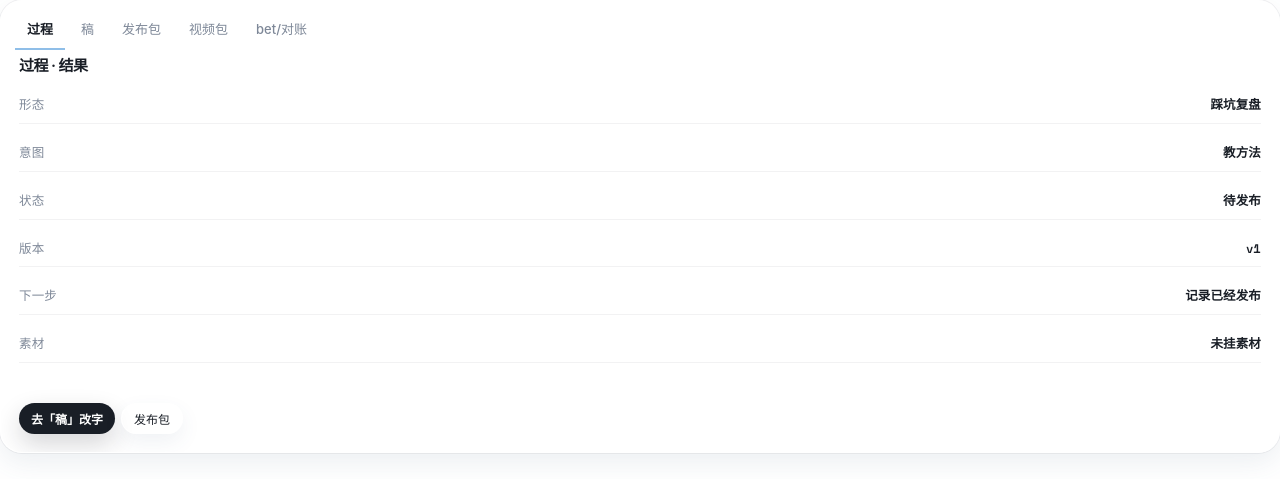
Test: ArtifactPane › surfaces a latest-check load failure instead of pretending it passed
Click the tab "发布包": (142, 30) top-left (110, 11), bottom-right (173, 50)
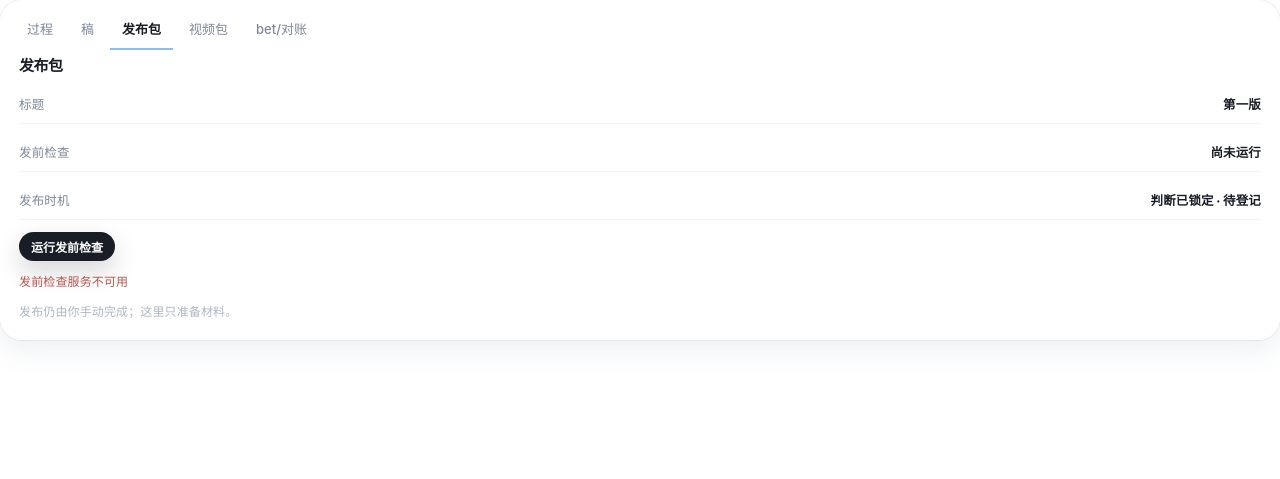
Expected: the text "发前检查服务不可用" is shown, top-left (19, 274), bottom-right (128, 288)
Expected: the text "尚未运行" is shown, top-left (1210, 144), bottom-right (1261, 163)
